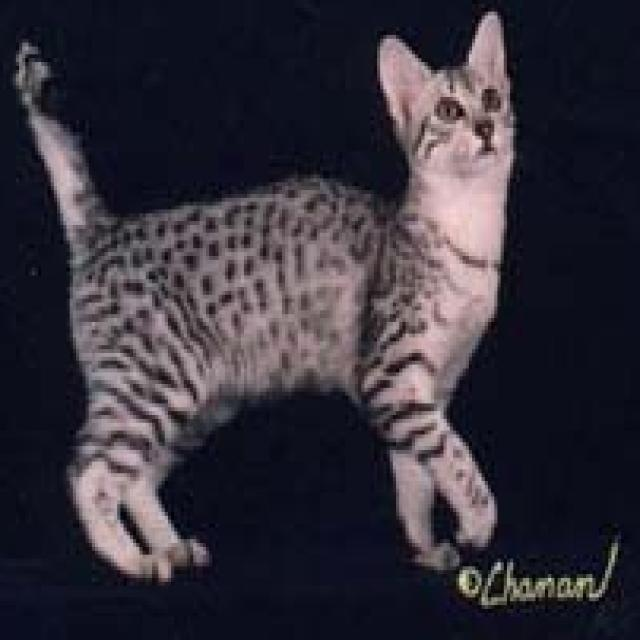Egyptian Mau: (8, 5, 524, 585)
